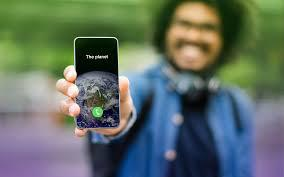0: (165, 14, 224, 60)
Hand: (54, 65, 137, 140)
Smartphone: (73, 33, 121, 131)
